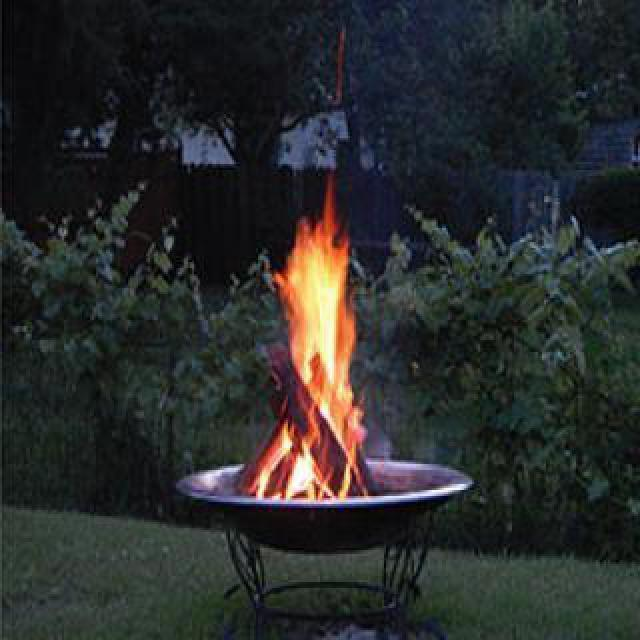Fire: (262, 196, 366, 488)
